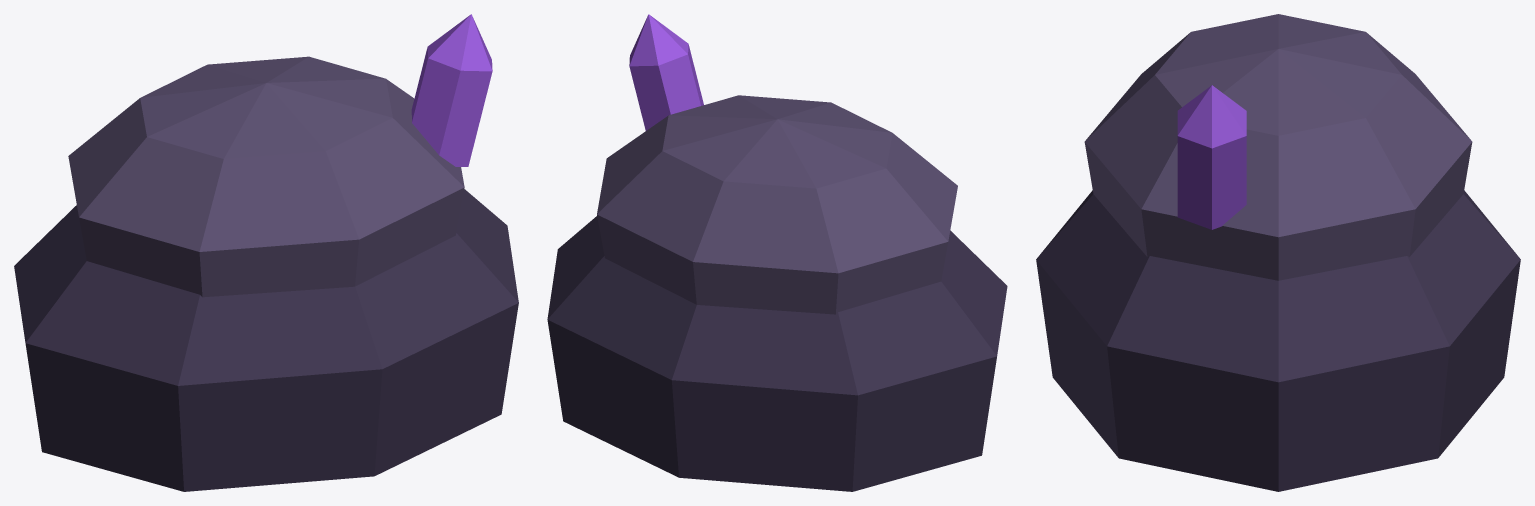
File: env_r12_dark_boulder.glb
3 views of the same model, side by side, from view 1: azimuth 30°, elevation 25°; view 2: azimuth 150°, elevation 25°; view 3: azimuth 270°, elevation 25° (orthographic). The views are drawn at different scales.
Visible parts, largest first — view 1: env_r12_dark_boulder; view 2: env_r12_dark_boulder; view 3: env_r12_dark_boulder.
Boxes of the visible parts, x1,y1,x2,y2 form: env_r12_dark_boulder: (14,14,518,491); env_r12_dark_boulder: (547,14,1007,491); env_r12_dark_boulder: (1036,14,1520,491).
Bounding box in the file's own units: 1.8 × 1.3 × 1.5.
1 material, 1 textured.
